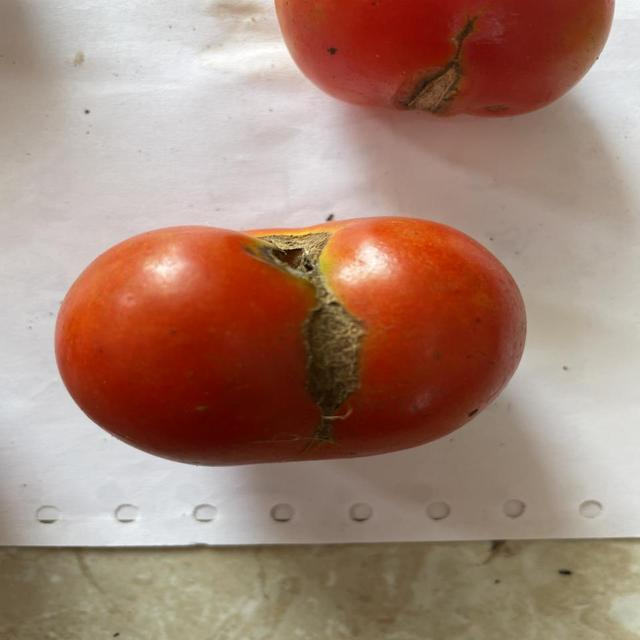Cracking Fruit: (91, 164, 337, 425)
